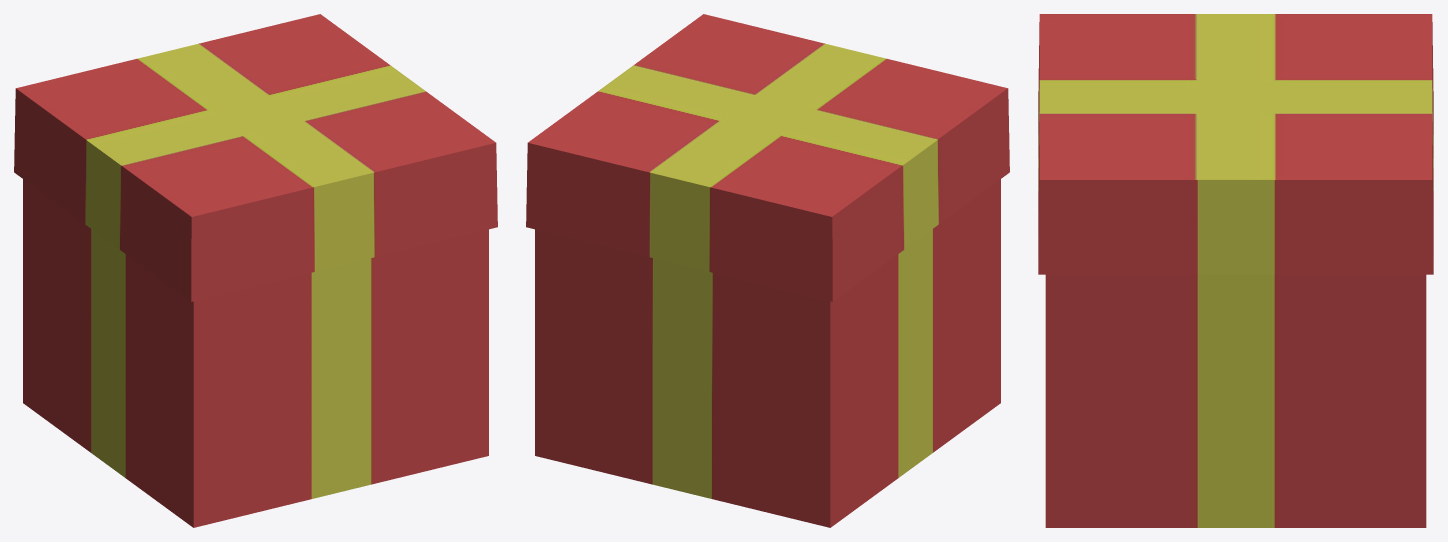
3 renders of one model, left to right at view 1: azimuth 30°, elevation 25°; view 2: azimuth 150°, elevation 25°; view 3: azimuth 270°, elevation 25°, orthographic. The views are drawn at different scales.
Visible parts, largest first — view 1: Cube.012; view 2: Cube.012; view 3: Cube.012.
Part boxes in pixels (left/top/right/bottom): Cube.012: left=14, top=14, right=497, bottom=527; Cube.012: left=526, top=14, right=1009, bottom=527; Cube.012: left=1038, top=14, right=1433, bottom=527.
Size of the model in its own units: 9623 by 9411 by 9623.
Materials: 5 (3 with a texture image).
